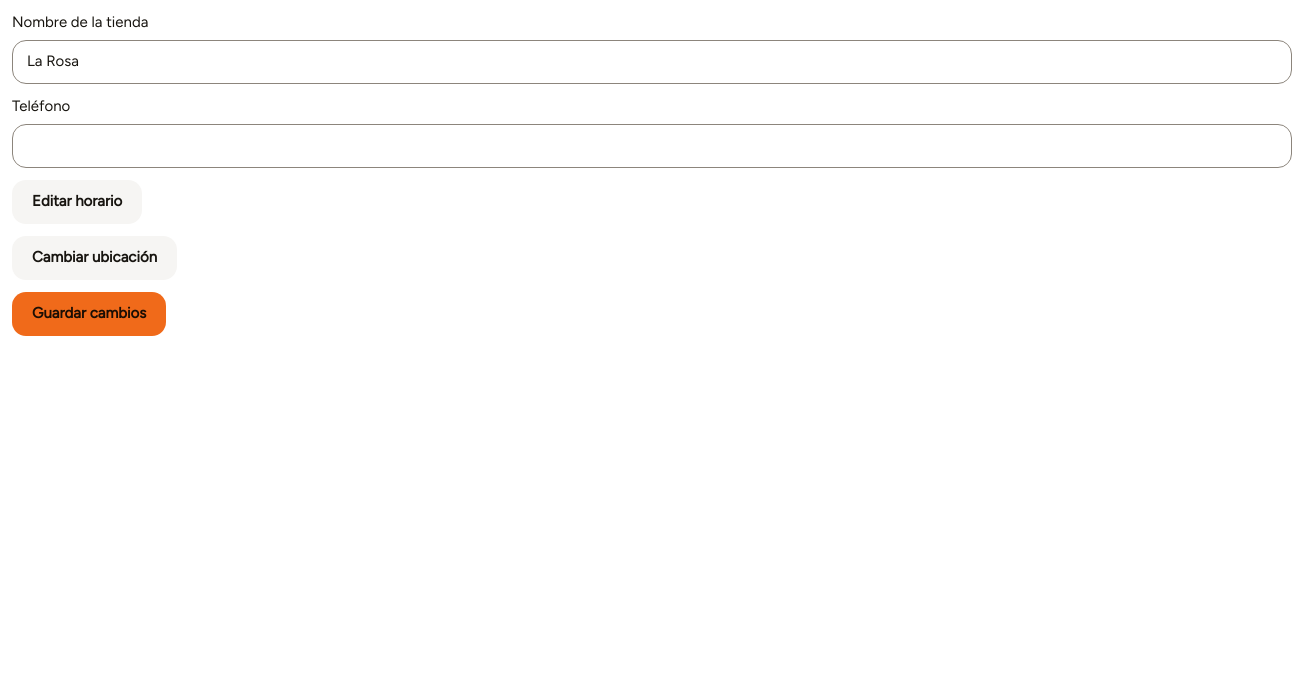
Test: editor de horario › copia el horario del lunes a los demás días, los abre y lo anuncia
Click the button "Editar horario" at x=77, y=202, box left=12, top=180, right=142, bottom=224
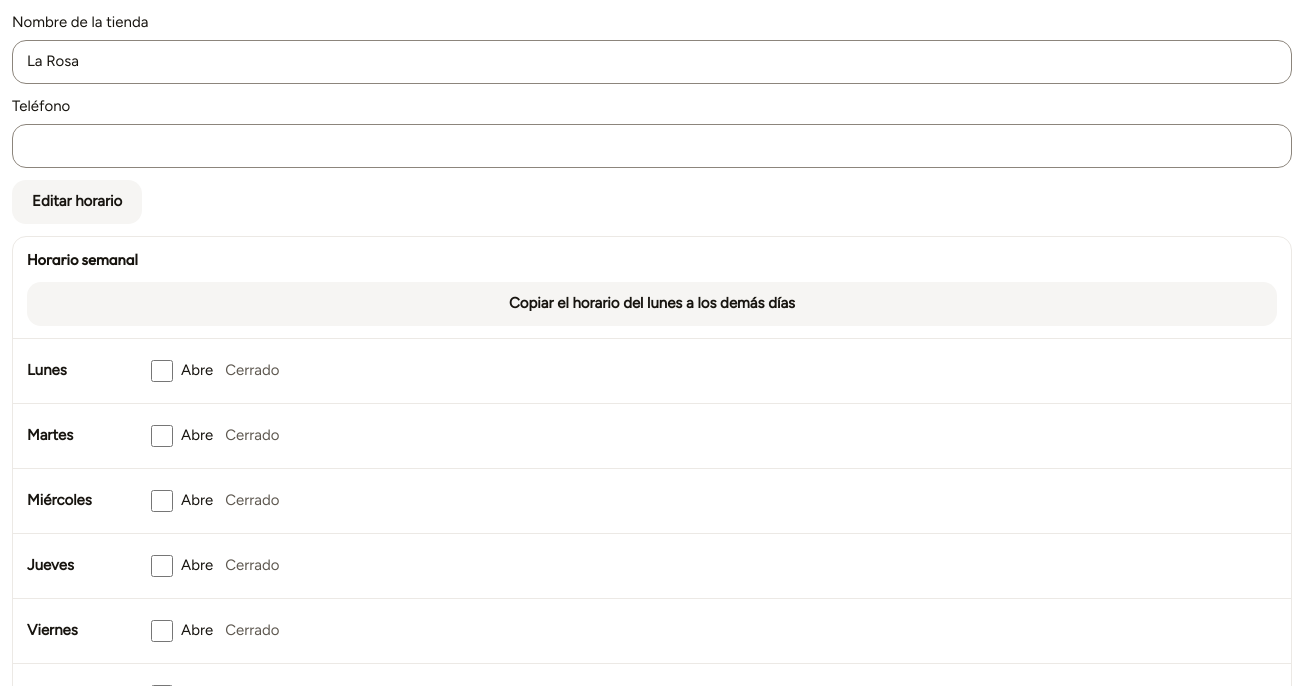
Click the checkbox named "Abre el lunes" at x=162, y=371, box left=151, top=360, right=173, bottom=382
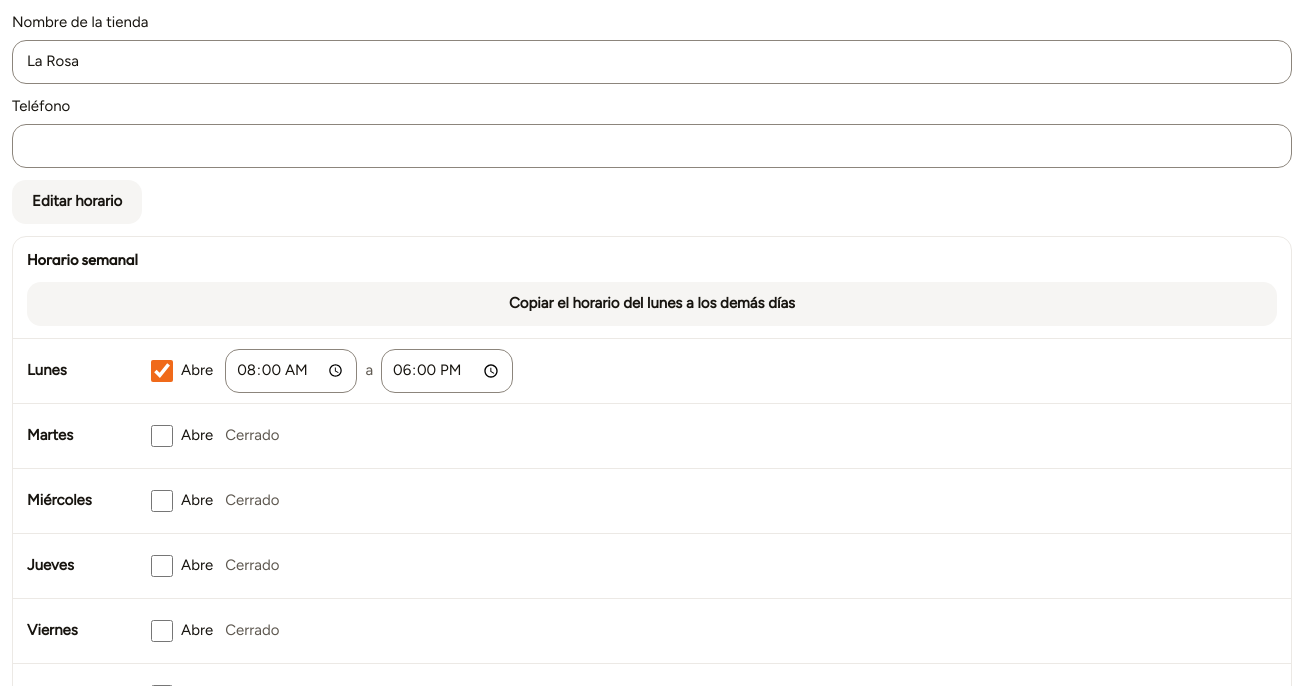
Replace the text in the time field named "Apertura del lunes" with "07:30" at x=291, y=371, box left=225, top=349, right=357, bottom=393
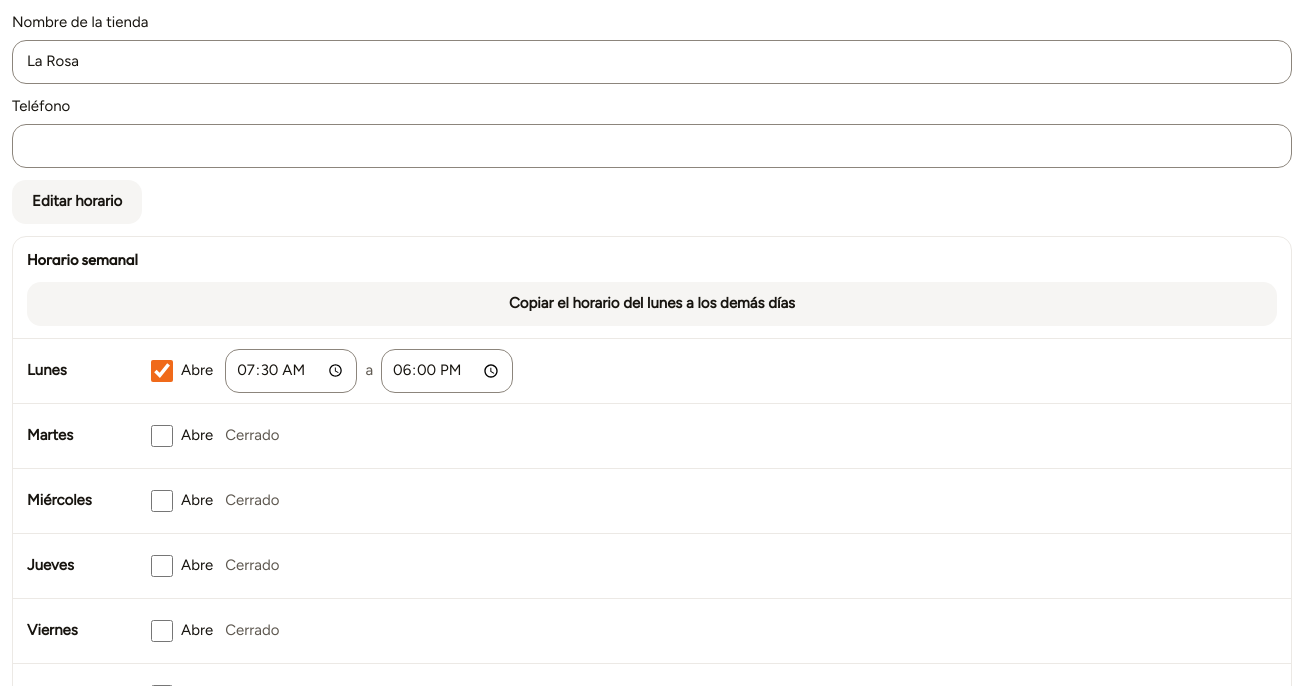
Replace the text in the time field named "Cierre del lunes" with "20:00" at x=447, y=371, box left=381, top=349, right=513, bottom=393
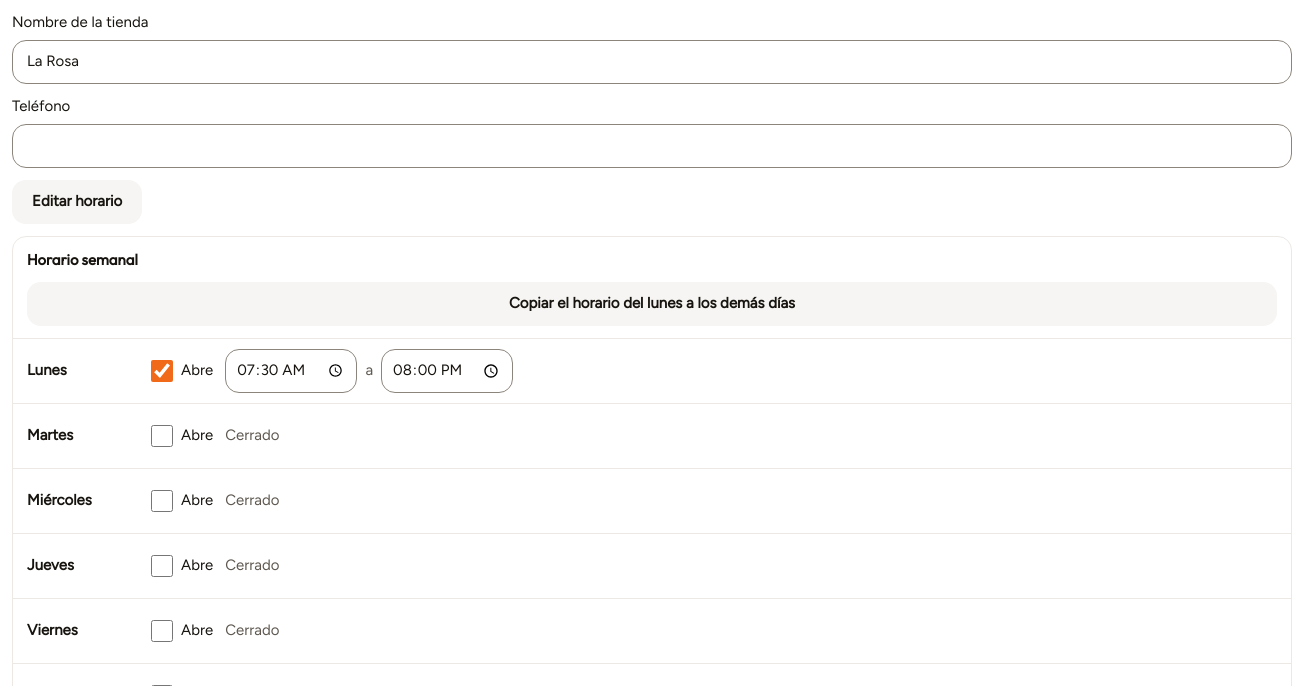
Click the button "Copiar el horario del lunes a los demás días" at x=652, y=304, box left=27, top=282, right=1277, bottom=326
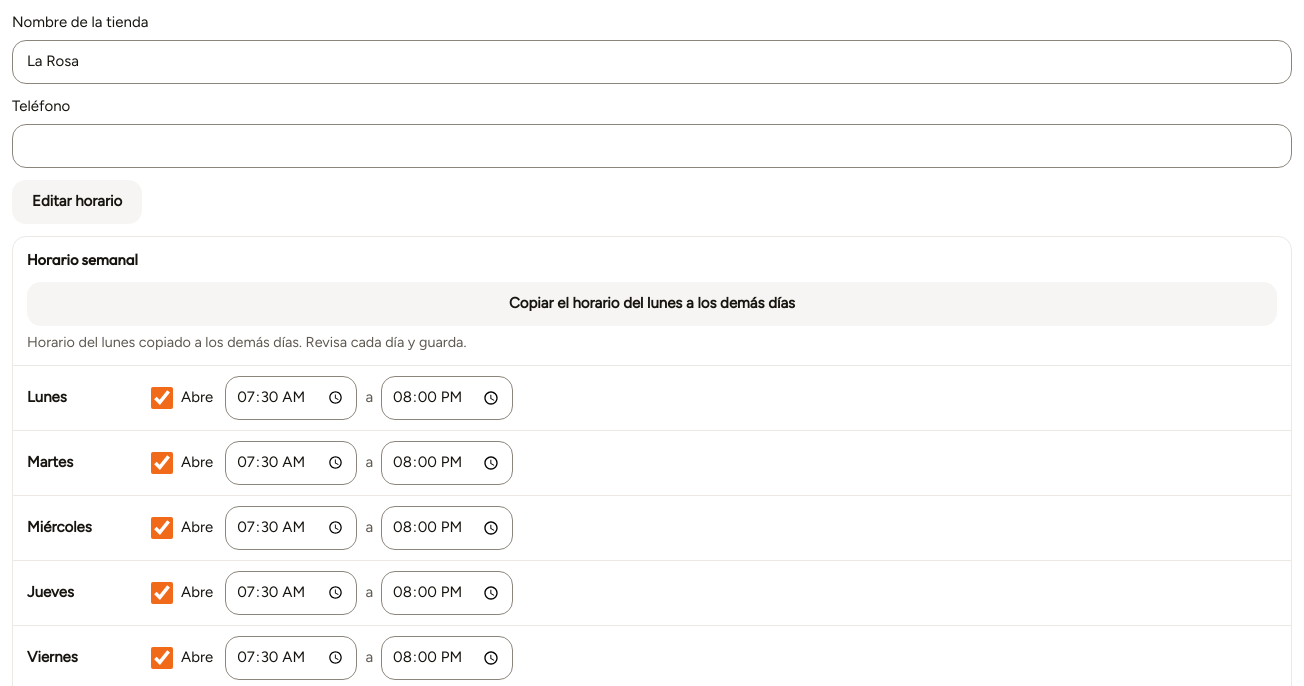
Check: the message shows "Horario del lunes copiado", box left=27, top=333, right=466, bottom=351
